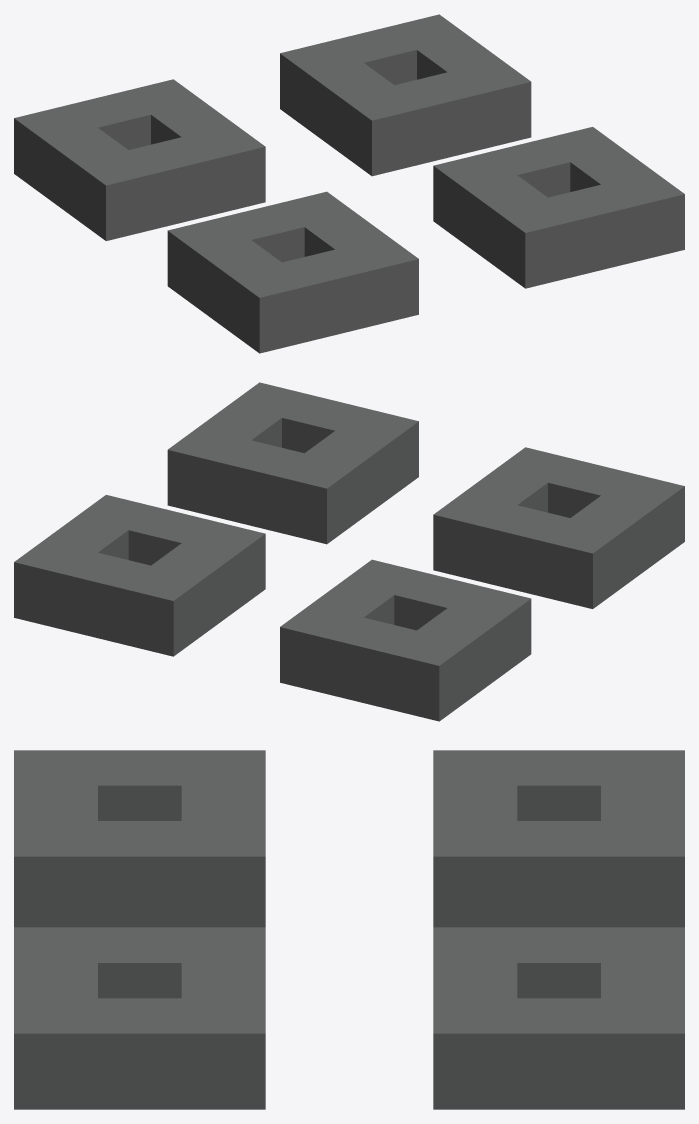
The model's file is spike.fbx.
3 renders of one model, top to bottom at view 1: azimuth 30°, elevation 25°; view 2: azimuth 150°, elevation 25°; view 3: azimuth 270°, elevation 25°, orthographic. The views are drawn at different scales.
Visible parts, largest first — view 1: spike; view 2: spike; view 3: spike.
Boxes of the visible parts, x1=… form: spike: x1=14, y1=14, x2=684, y2=353; spike: x1=14, y1=382, x2=684, y2=721; spike: x1=14, y1=750, x2=684, y2=1109.
Bounding box in the file's own units: 8 × 1 × 8.
